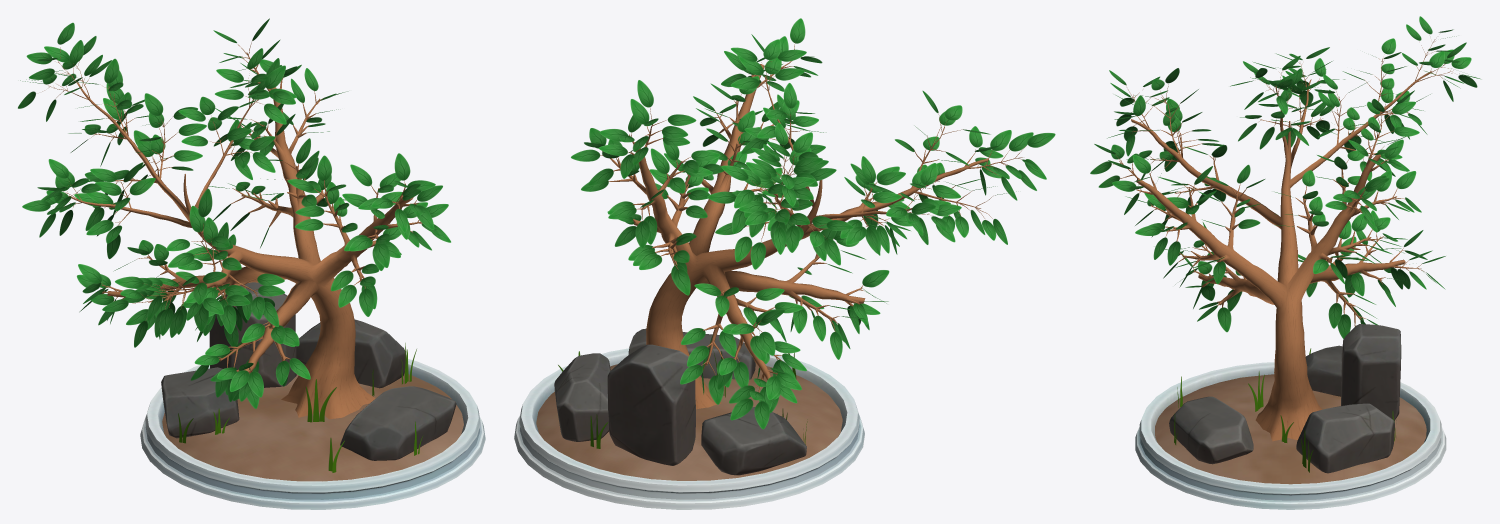
File: stylized_tree.glb
The picture shows the model from 3 angles, left to right: view 1: azimuth 30°, elevation 25°; view 2: azimuth 150°, elevation 25°; view 3: azimuth 270°, elevation 25°; orthographic projection. The views are drawn at different scales.
Parts seen in each view (by area): view 1: StylTree_Foliage_Mat_StylTree_TreeFoliage_0, StylTree_Base_low_Mat_StylTree_Base_0, StylTree_Mat_StylTree_TreeTunk_0, StylTree_Rock1_low_Mat_StylTree_Props_0; view 2: StylTree_Foliage_Mat_StylTree_TreeFoliage_0, StylTree_Base_low_Mat_StylTree_Base_0, StylTree_Rock1_low_Mat_StylTree_Props_0, StylTree_Mat_StylTree_TreeTunk_0; view 3: StylTree_Foliage_Mat_StylTree_TreeFoliage_0, StylTree_Base_low_Mat_StylTree_Base_0, StylTree_Mat_StylTree_TreeTunk_0, StylTree_Rock1_low_Mat_StylTree_Props_0.
Boxes of the visible parts, box(x1,y1,x2,y2) form: StylTree_Foliage_Mat_StylTree_TreeFoliage_0: box(18, 18, 450, 408); StylTree_Base_low_Mat_StylTree_Base_0: box(140, 359, 485, 509); StylTree_Mat_StylTree_TreeTunk_0: box(42, 40, 422, 419); StylTree_Rock1_low_Mat_StylTree_Props_0: box(161, 282, 456, 472); StylTree_Foliage_Mat_StylTree_TreeFoliage_0: box(571, 18, 1055, 429); StylTree_Base_low_Mat_StylTree_Base_0: box(514, 348, 864, 509); StylTree_Rock1_low_Mat_StylTree_Props_0: box(554, 328, 807, 475); StylTree_Mat_StylTree_TreeTunk_0: box(600, 42, 1025, 409); StylTree_Foliage_Mat_StylTree_TreeFoliage_0: box(1090, 16, 1481, 338); StylTree_Base_low_Mat_StylTree_Base_0: box(1135, 362, 1446, 509); StylTree_Mat_StylTree_TreeTunk_0: box(1113, 39, 1453, 441); StylTree_Rock1_low_Mat_StylTree_Props_0: box(1169, 324, 1401, 473).
Bounding box in the file's own units: 28.93 × 25.88 × 25.81.
4 materials, 4 textured.
